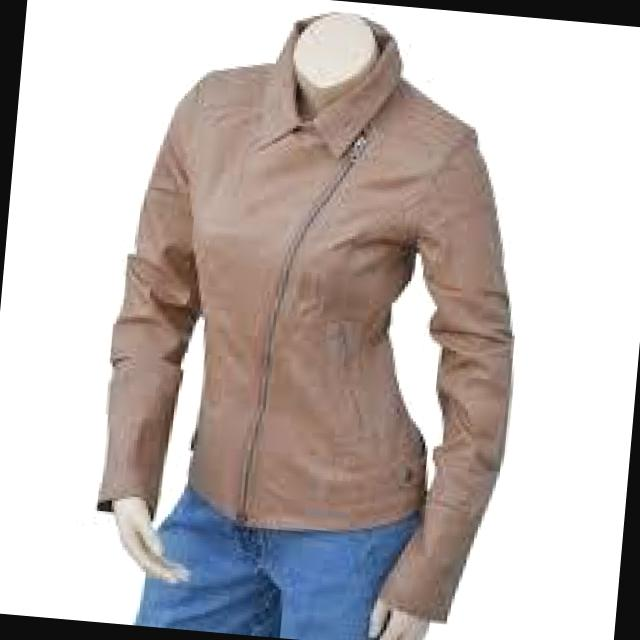jacket: (90, 44, 538, 629)
